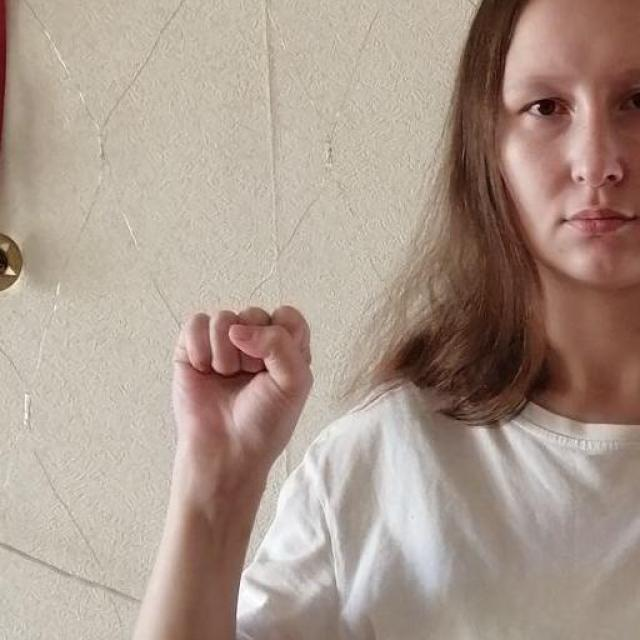hand: (168, 303, 314, 522)
